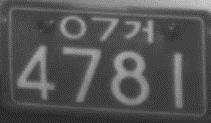0: (59, 14, 87, 39)
1: (161, 52, 195, 109)
4: (16, 44, 56, 101)
7: (62, 46, 102, 102), (90, 16, 120, 41)
8: (109, 50, 151, 106)
거: (124, 18, 154, 43)
